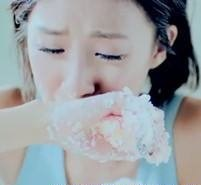face: (22, 1, 152, 147)
